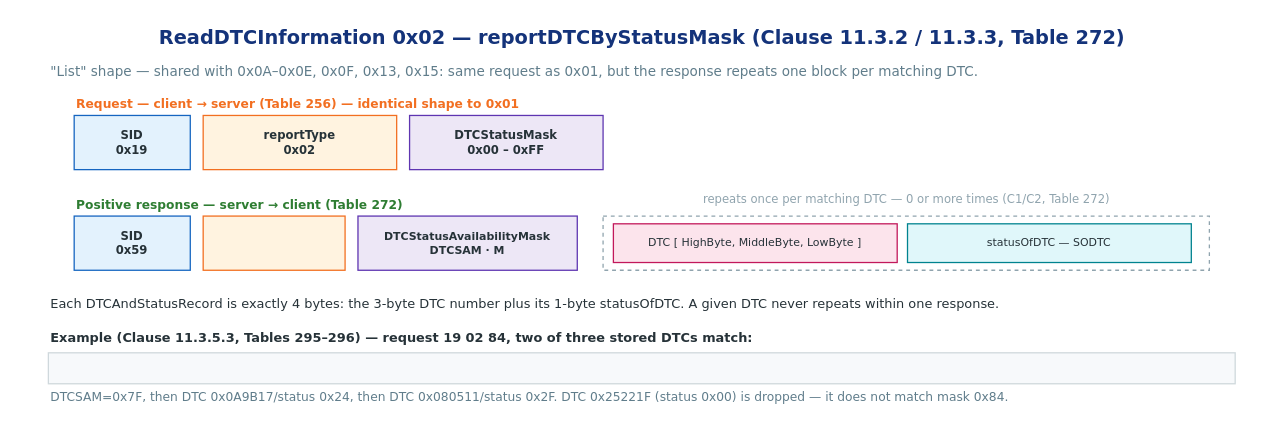
The diagram is 1282 pixels wide and 428 high, and some of its shapes have lost their labels. Here are the shapes that lost their labels. From the top down, the centre of each, then its label:
At (273,242): "reportType echo 0x02".
At (641,368): "59 02 7F | 0A 9B 17 24 | 08 05 11 2F".
